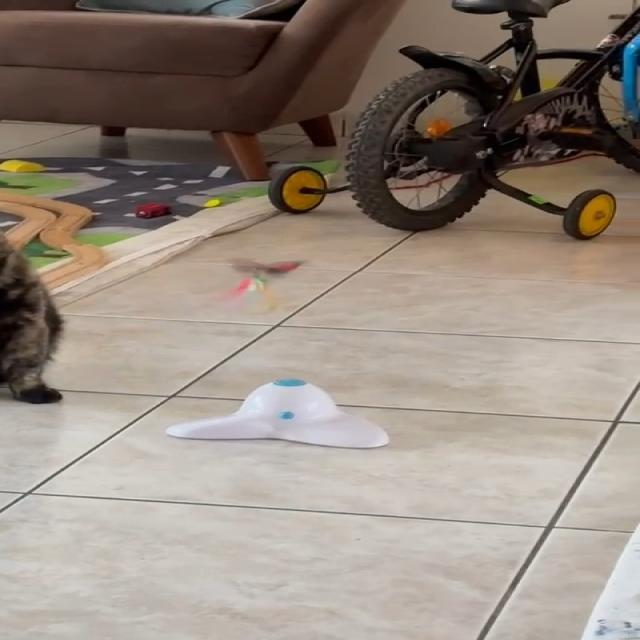authorized: (0, 228, 65, 403)
